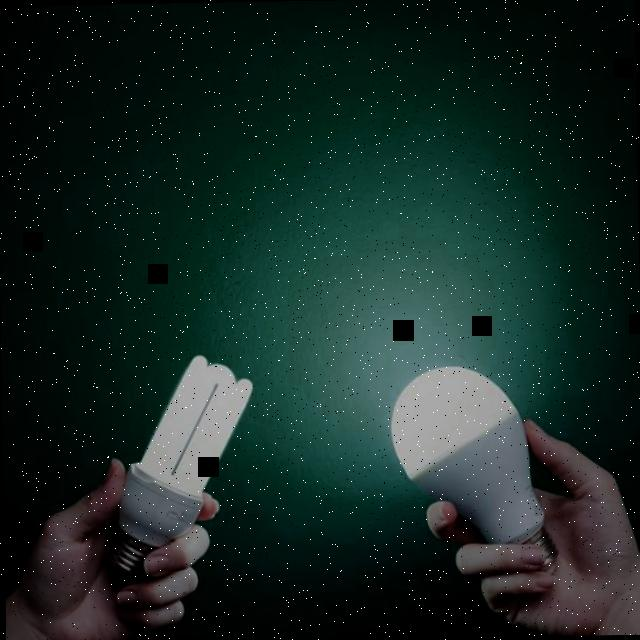light_bulb: (80, 332, 275, 607), (386, 333, 563, 590)
